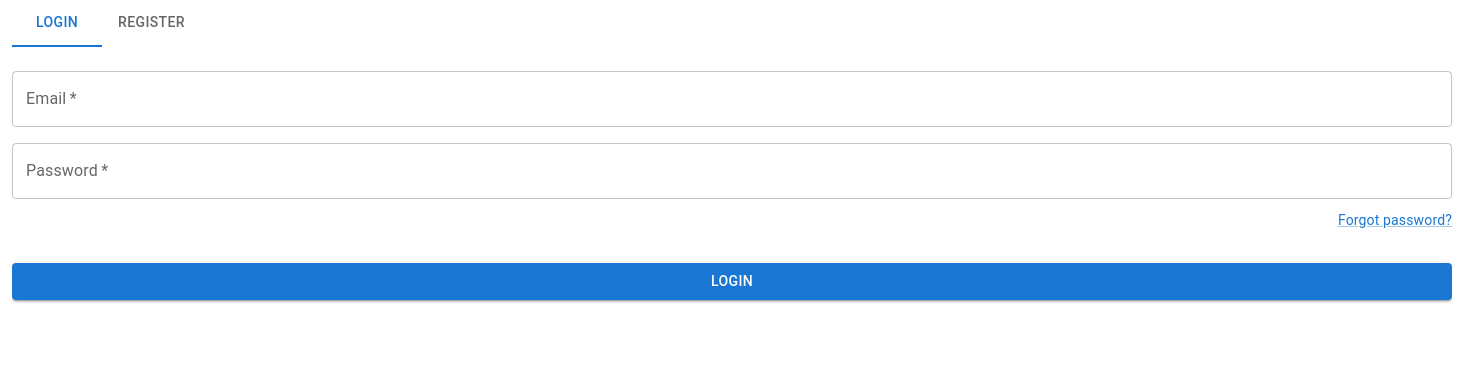
Test case: LoginForm › should display error message when login fails
The image size is (1464, 392).
Type "test@example.com" into the field labelled "Email *" at [732, 99], box 12,71 -> 1452,127
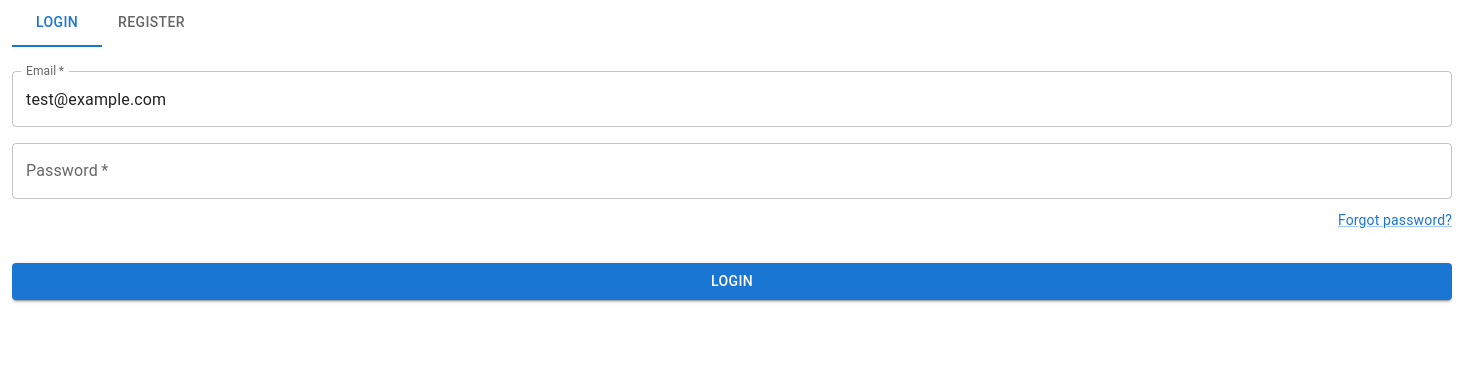
Type "wrongpassword" into the password field labelled "Password *" at [732, 171], box 12,143 -> 1452,199
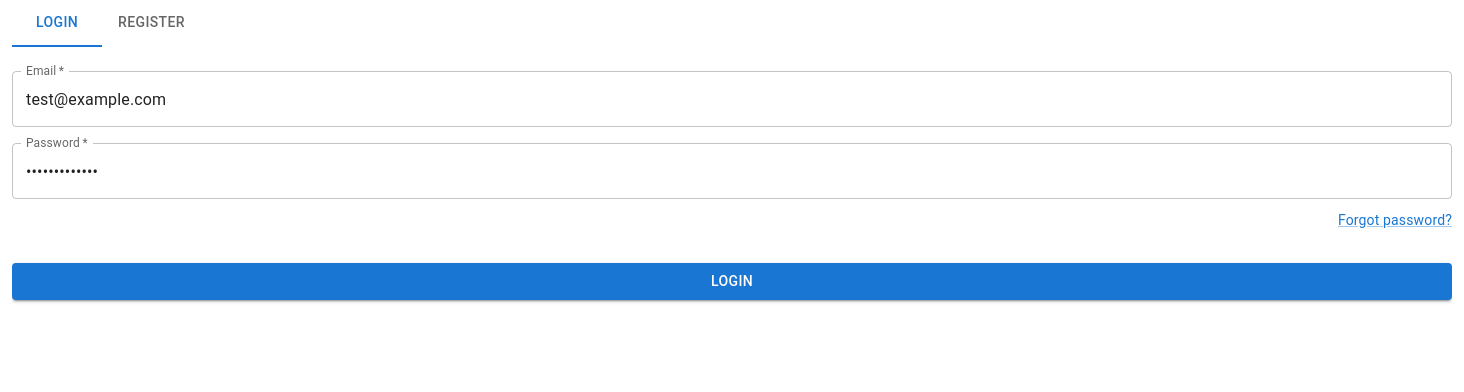
Click the button "Login" at [732, 281], box 12,263 -> 1452,300
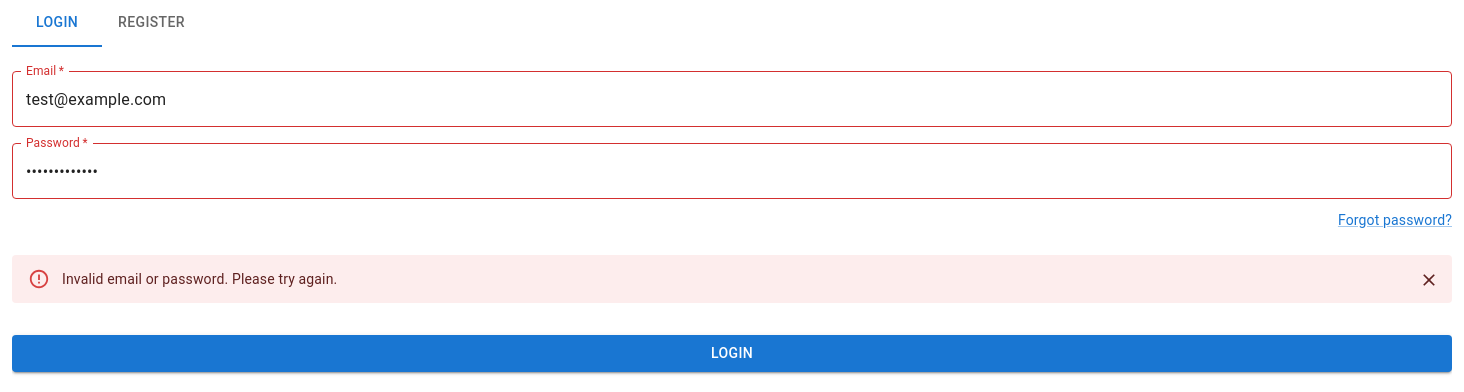
expect the message "Invalid email or password. Please try again." is shown: met, box 12,255 -> 1452,303
expect the message reads "Invalid email or password. Please try again.": met, box 62,271 -> 337,287
